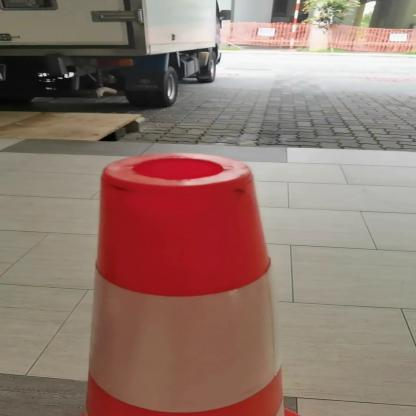cone: (48, 151, 364, 415)
